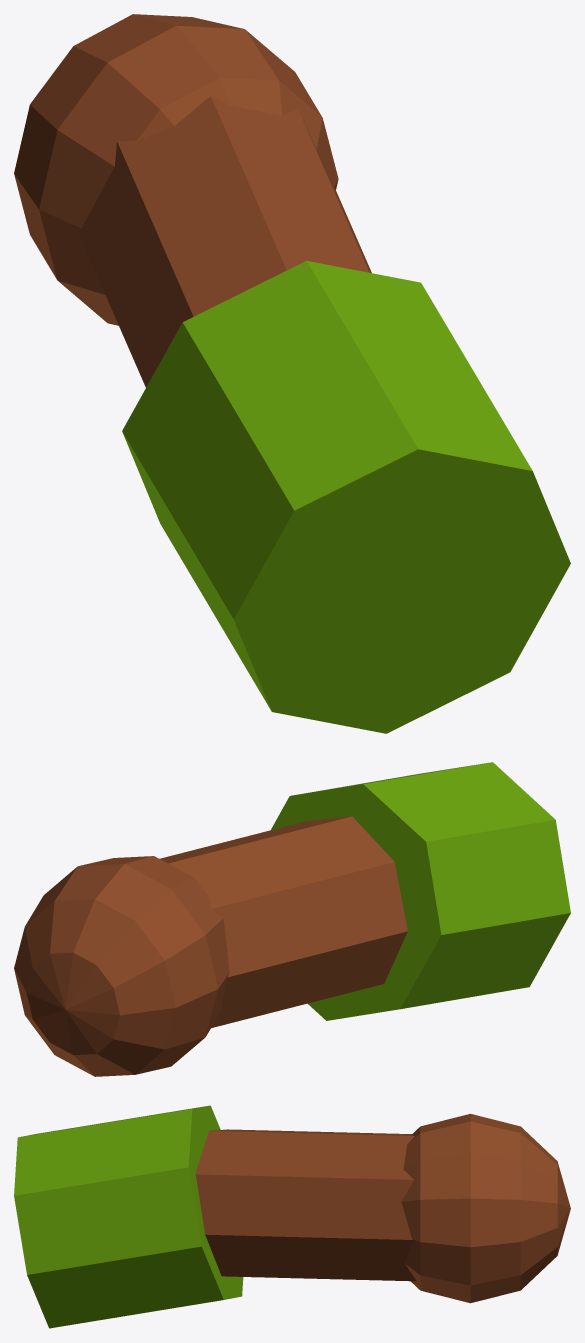
File: Resident8LeftArm.obj
3 views of the same model, one above another, from view 1: azimuth 30°, elevation 25°; view 2: azimuth 150°, elevation 25°; view 3: azimuth 270°, elevation 25° (orthographic). The views are drawn at different scales.
Parts seen in each view (by area): view 1: Resident8LeftArm; view 2: Resident8LeftArm; view 3: Resident8LeftArm.
Part boxes in pixels (<box>): Resident8LeftArm: <box>14,14,570,733</box>; Resident8LeftArm: <box>14,762,570,1076</box>; Resident8LeftArm: <box>14,1105,570,1328</box>.
Size of the model in its own units: 33.37 by 30.65 by 63.77.
